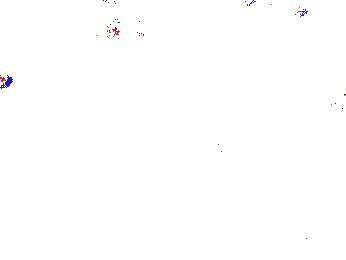red belly glassfish: (104, 19, 143, 40), (1, 73, 17, 91)
redtail glassfish: (240, 1, 310, 20), (211, 130, 230, 178)
siberian prawn: (33, 224, 109, 255)
